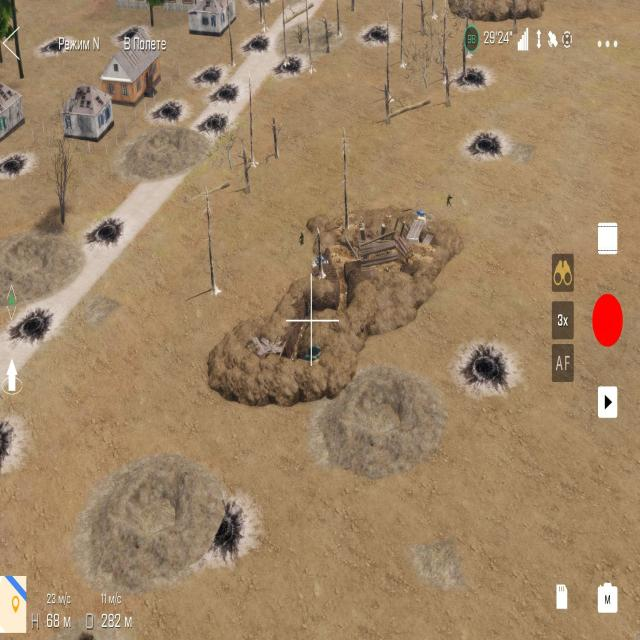fortification: (210, 168, 477, 420), (89, 24, 174, 103), (51, 71, 124, 147), (122, 0, 243, 41)
infantry: (390, 0, 555, 29), (442, 186, 459, 212), (305, 297, 313, 316), (298, 230, 306, 247)
